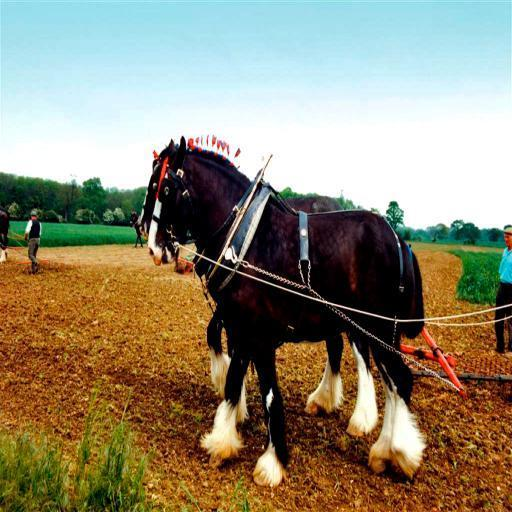horse: (148, 131, 424, 490), (138, 136, 380, 440), (0, 206, 12, 262), (128, 208, 144, 248)
